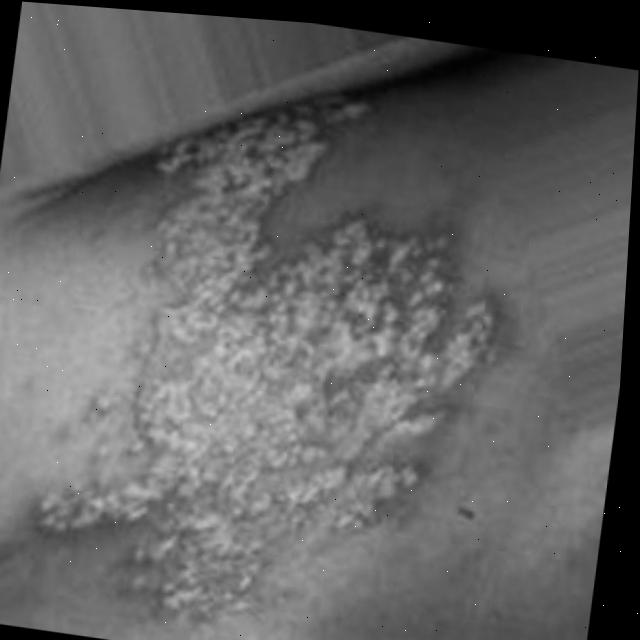Shingles: (84, 118, 512, 640)
